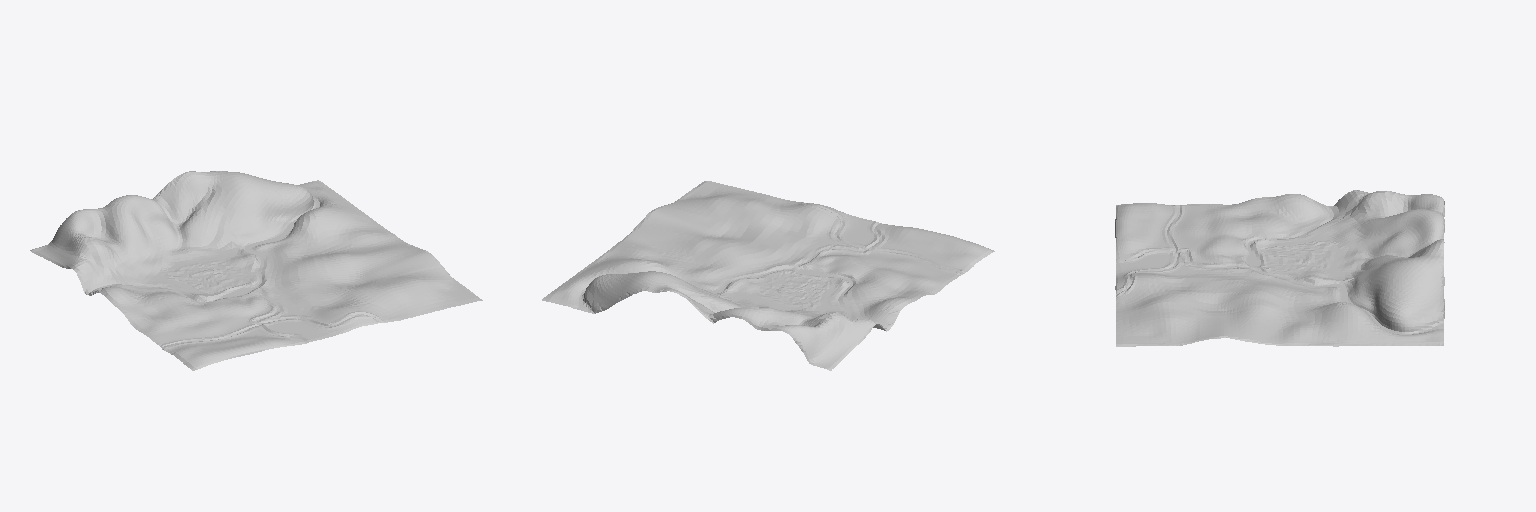
The model's file is Landscape.obj.
The picture shows the model from 3 angles: view 1: azimuth 30°, elevation 25°; view 2: azimuth 150°, elevation 25°; view 3: azimuth 270°, elevation 25°; orthographic projection.
Visible parts, largest first — view 1: RetopoGroup2; view 2: RetopoGroup2; view 3: RetopoGroup2.
Part boxes in pixels (x1,y1,x2,y2): RetopoGroup2: (30,171,482,370); RetopoGroup2: (542,181,994,370); RetopoGroup2: (1115,190,1444,346).
Bounding box in the file's own units: 721 × 101 × 707.